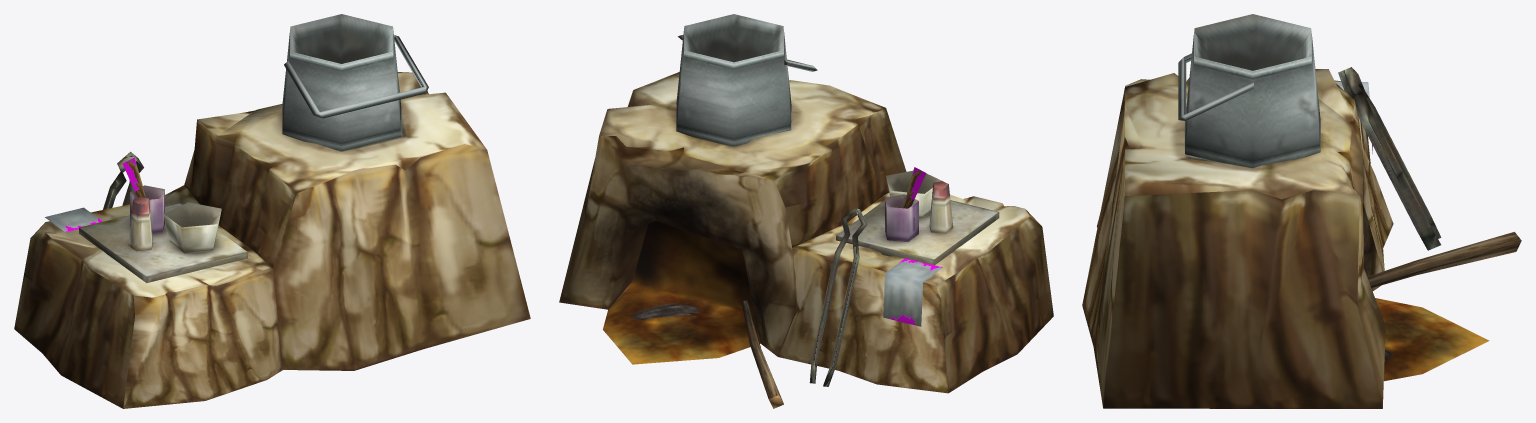
Rendered from a_SWAfirehole01.glb.
3 views of the same model, side by side, from view 1: azimuth 30°, elevation 25°; view 2: azimuth 150°, elevation 25°; view 3: azimuth 270°, elevation 25° (orthographic). The views are drawn at different scales.
Visible parts, largest first — view 1: a_SWAfirehole01; view 2: a_SWAfirehole01; view 3: a_SWAfirehole01.
Part boxes in pixels (x1,y1,x2,y2): a_SWAfirehole01: [14, 14, 530, 408]; a_SWAfirehole01: [559, 14, 1053, 408]; a_SWAfirehole01: [1082, 14, 1521, 408].
Size of the model in its own units: 1.99 by 1.15 by 1.54.
2 materials, 2 textured.
